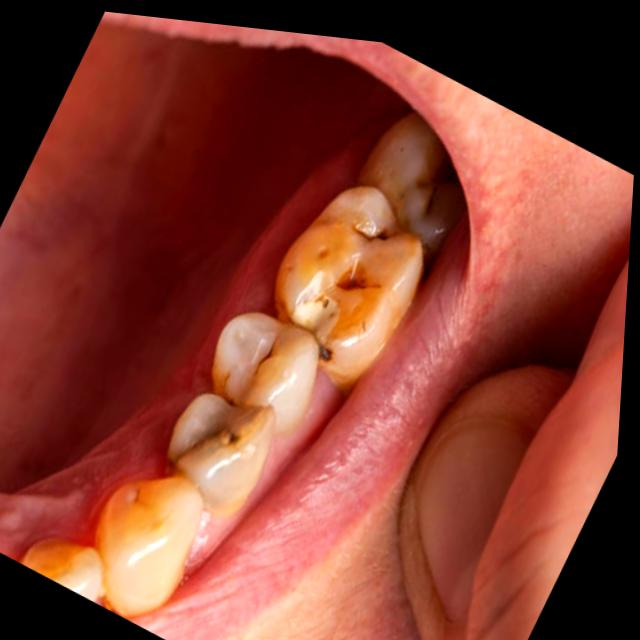calculus: (303, 202, 386, 292), (168, 394, 262, 463), (301, 285, 361, 360), (250, 321, 283, 375), (95, 546, 112, 610)
cariess: (169, 395, 273, 517)
